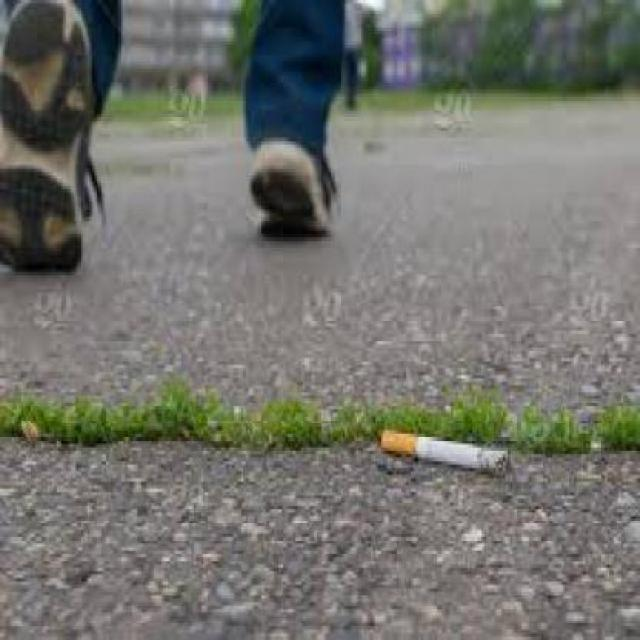cigarette: (365, 417, 527, 498)
